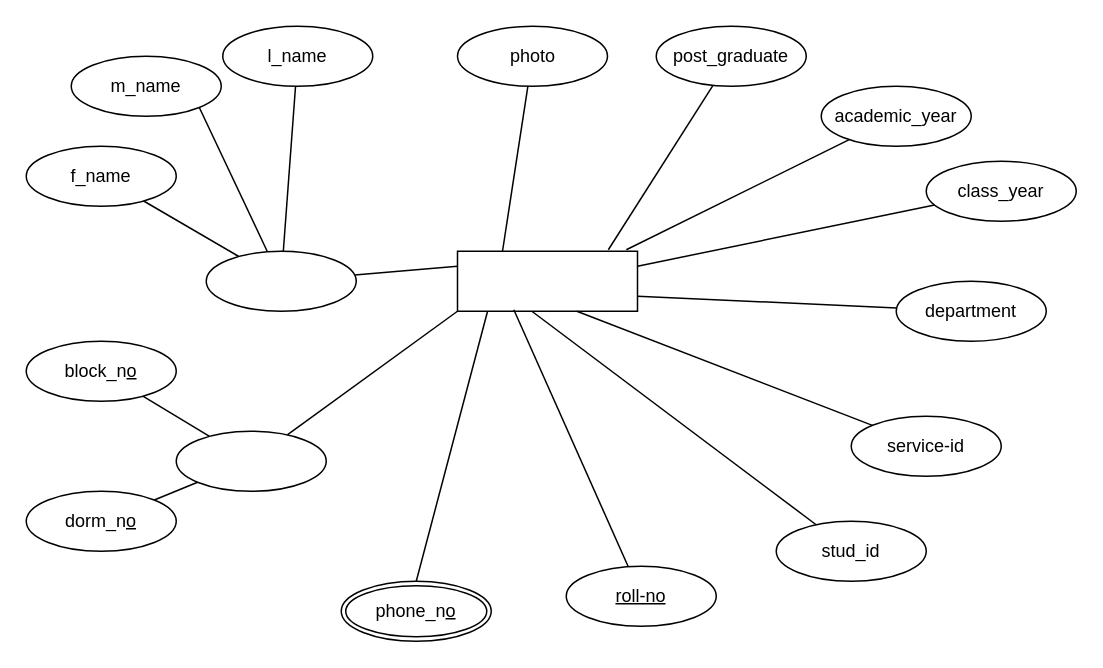
Some shapes in this 1103 by 668 pixel diagram are drawn without their labels. The box of each missing label's shape, as (x1, y1, x2, y2) in pixels:
address: (175, 430, 326, 491)
name: (205, 250, 356, 311)
STUDENT: (456, 250, 638, 311)
